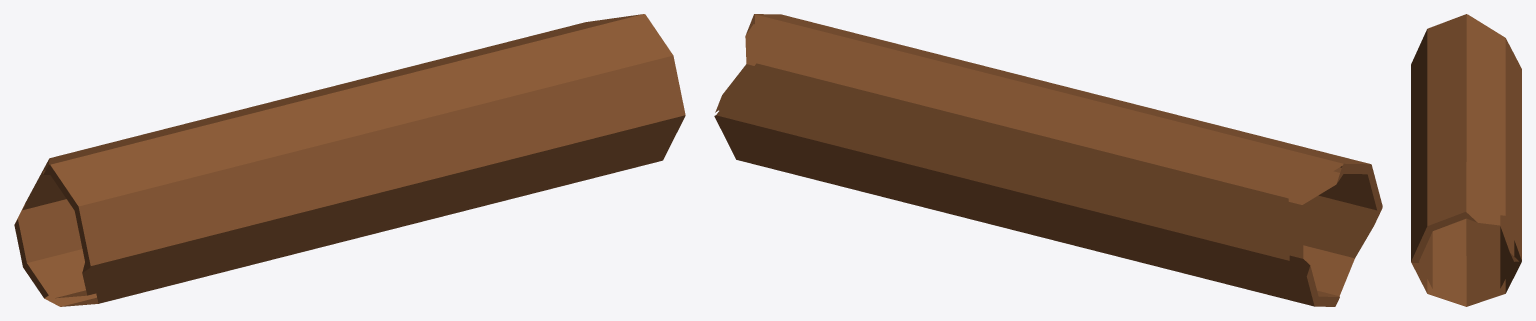
The model's file is Tronco.glb.
The picture shows the model from 3 angles, left to right: view 1: azimuth 30°, elevation 25°; view 2: azimuth 150°, elevation 25°; view 3: azimuth 270°, elevation 25°; orthographic projection. The views are drawn at different scales.
Parts seen in each view (by area): view 1: Cilindro; view 2: Cilindro; view 3: Cilindro.
Part boxes in pixels (x1,y1,x2,y2): Cilindro: (14,14,685,306); Cilindro: (714,14,1382,306); Cilindro: (1411,14,1521,306).
Size of the model in its own units: 10.01 by 2.42 by 2.33.
